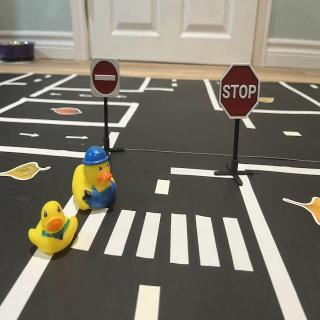duck_regular: (29, 202, 80, 258)
duck_specialty: (73, 147, 118, 214)
road_crosswalk: (69, 210, 259, 277)
road_oneway: (65, 134, 92, 143), (77, 91, 95, 101), (18, 133, 42, 140), (115, 95, 129, 102), (50, 92, 65, 98)
sign_noentry: (91, 59, 121, 99)
sign_stop: (220, 65, 262, 121)
